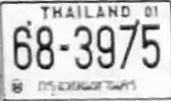3: (73, 24, 92, 69)
5: (141, 23, 160, 68)
6: (12, 25, 31, 69)
7: (119, 23, 138, 68)
8: (35, 25, 54, 69)
9: (96, 24, 114, 68)
BKK: (37, 74, 141, 98)
